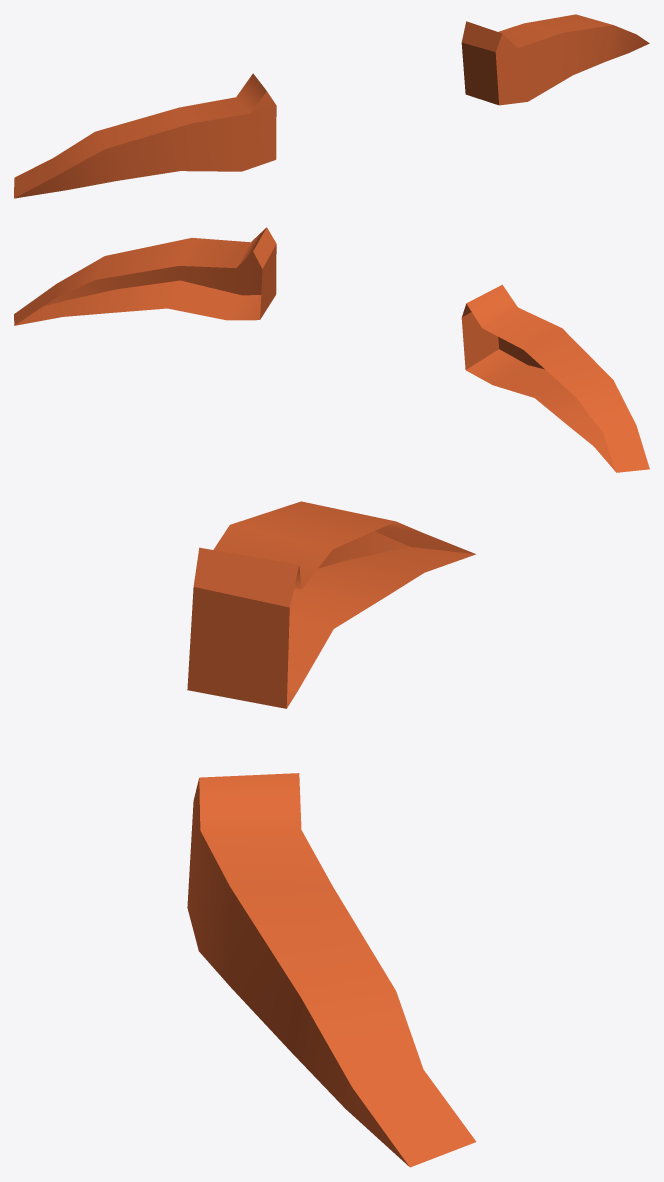
File: Eyebrow_12.fbx
3 renders of one model, top to bottom at view 1: azimuth 30°, elevation 25°; view 2: azimuth 150°, elevation 25°; view 3: azimuth 270°, elevation 25°, orthographic. The views are drawn at different scales.
Visible parts, largest first — view 1: Eyebrow_12; view 2: Eyebrow_12; view 3: Eyebrow_12.
Boxes of the visible parts, x1,y1,x2,y2 form: Eyebrow_12: (14, 14, 649, 198); Eyebrow_12: (14, 227, 649, 472); Eyebrow_12: (187, 501, 476, 1167).
Bounding box in the file's own units: 32.72 × 4.78 × 6.44.
